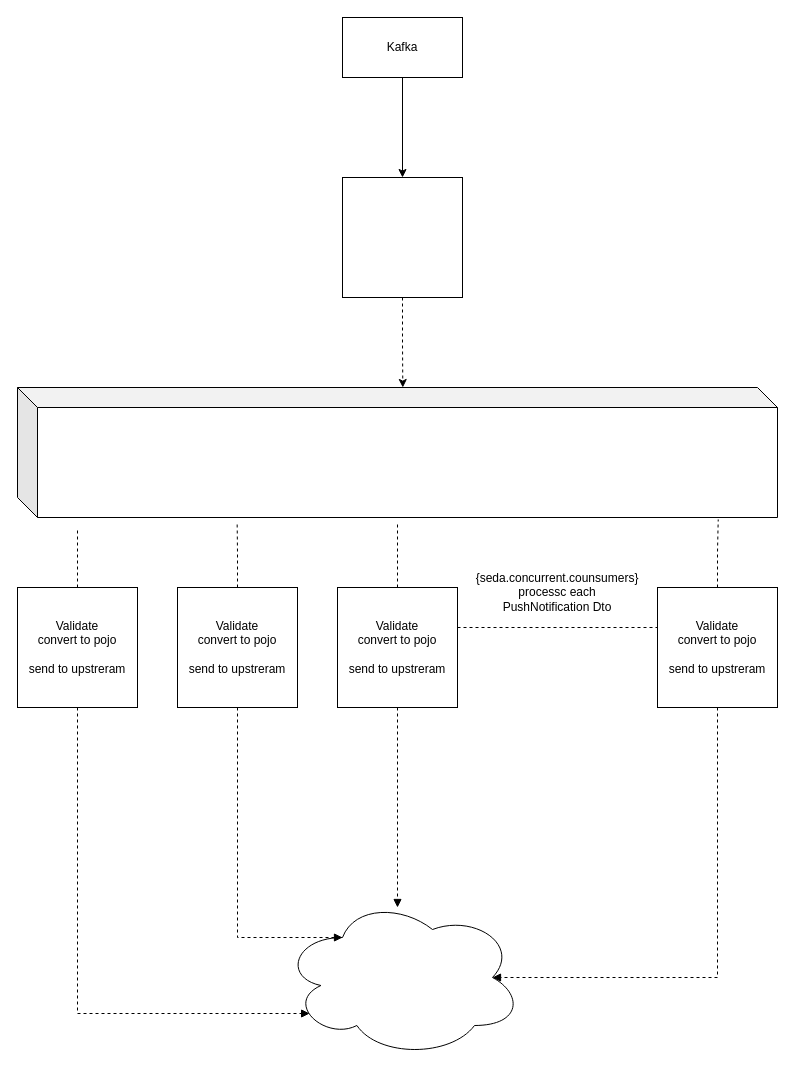
The diagram is 795 pixels wide and 1075 high, and some of its shapes have lost their labels. Each missing label, with the centre of its shape:
Fsm And APM: point 402,977
kafka-reader: point 402,237
Seda-Queue {seda.queue.size}: point 397,452
